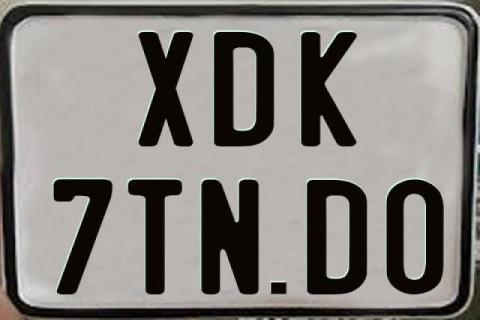0: (52, 179, 112, 295), (383, 179, 442, 295)
D: (304, 178, 366, 294), (214, 32, 274, 149)
K: (300, 32, 358, 150)
N: (198, 179, 258, 297)
T: (126, 178, 184, 296)
X: (136, 30, 194, 146)
